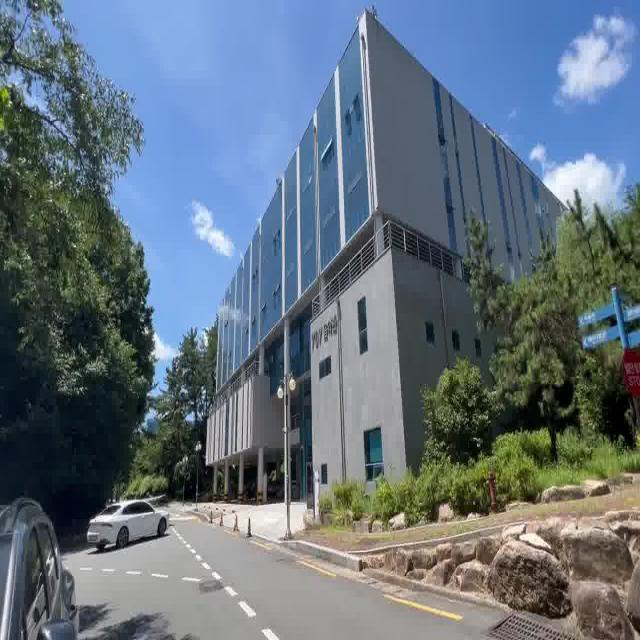building: (202, 39, 440, 478)
